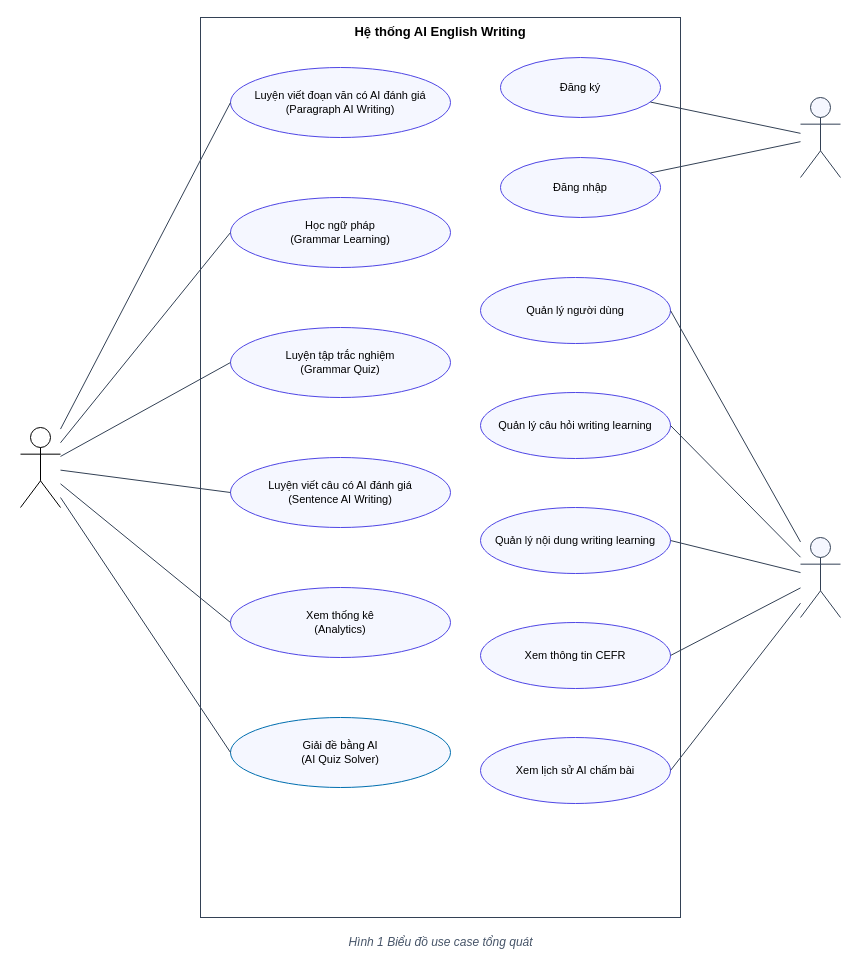
Image size: 858x975. Some labels were removed from this diagram. The centre of each missing label's shape, as x and y in pixels:
"Admin" belongs at [820,577].
"Guest" belongs at [820,137].
"Member" belongs at [40,467].
